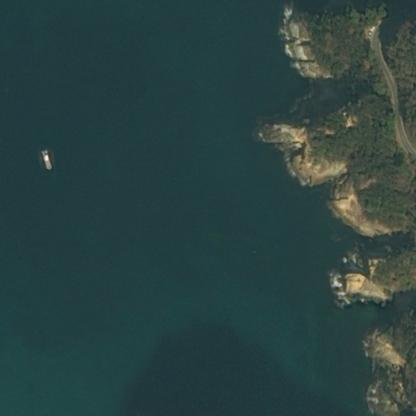ship: (34, 145, 55, 173)
